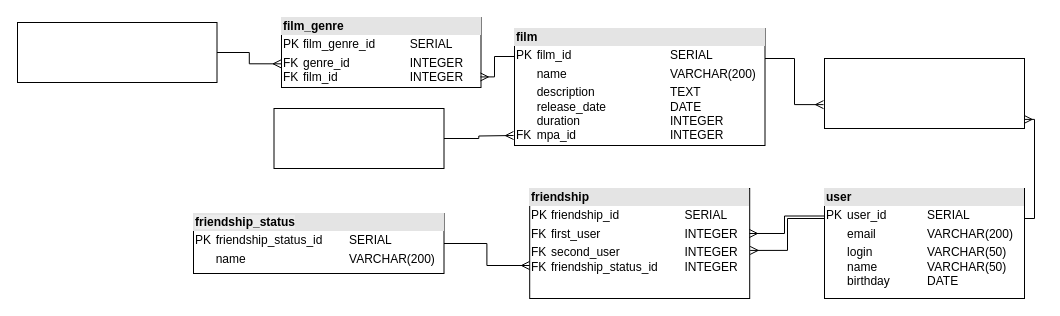
This 1060x316 diagram has some shape labels left out. Here are the shapes that lost their labels. From the top down, the centre of each, then its label:
At point 116,52: "genre PK genre_id SERIAL name VARCHAR(200)".
At point 924,93: "film_like PK film_like_id SERIAL FK FK film_id INTEGER user_id INTEGER".
At point 358,138: "mpa PK mpa_id SERIAL name VARCHAR(200)".
